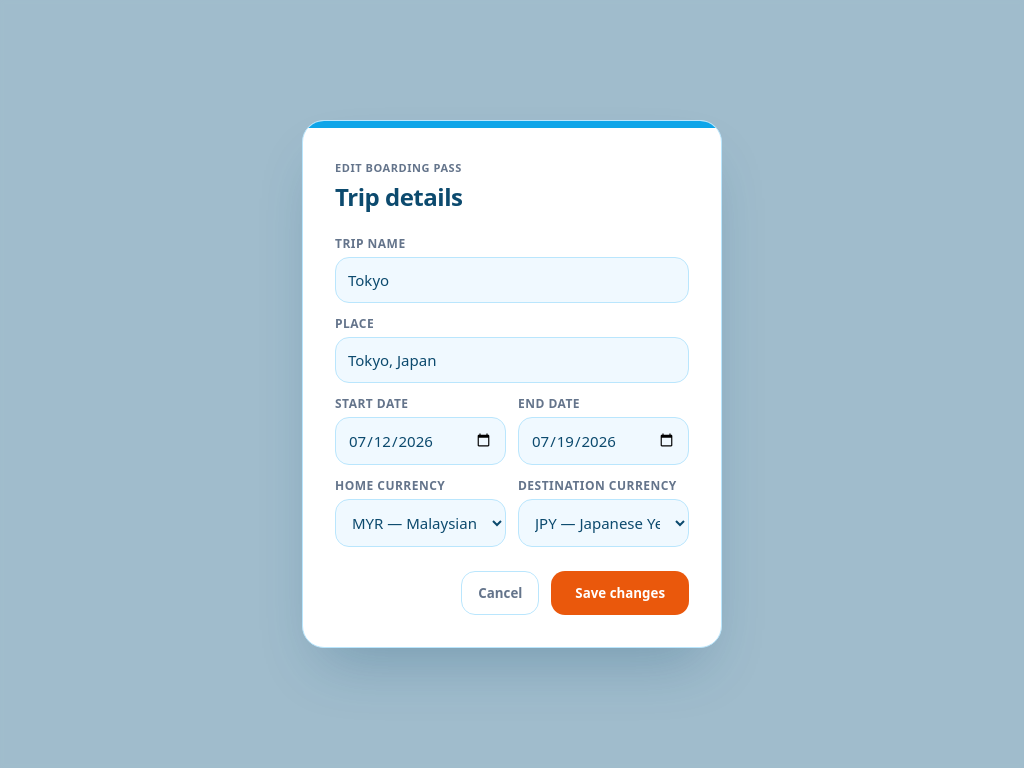
EditTripModal › blocks an empty name
This screenshot has width=1024, height=768.
Clear the field labelled "Trip name" at (512, 280), box 335,256 -> 689,302
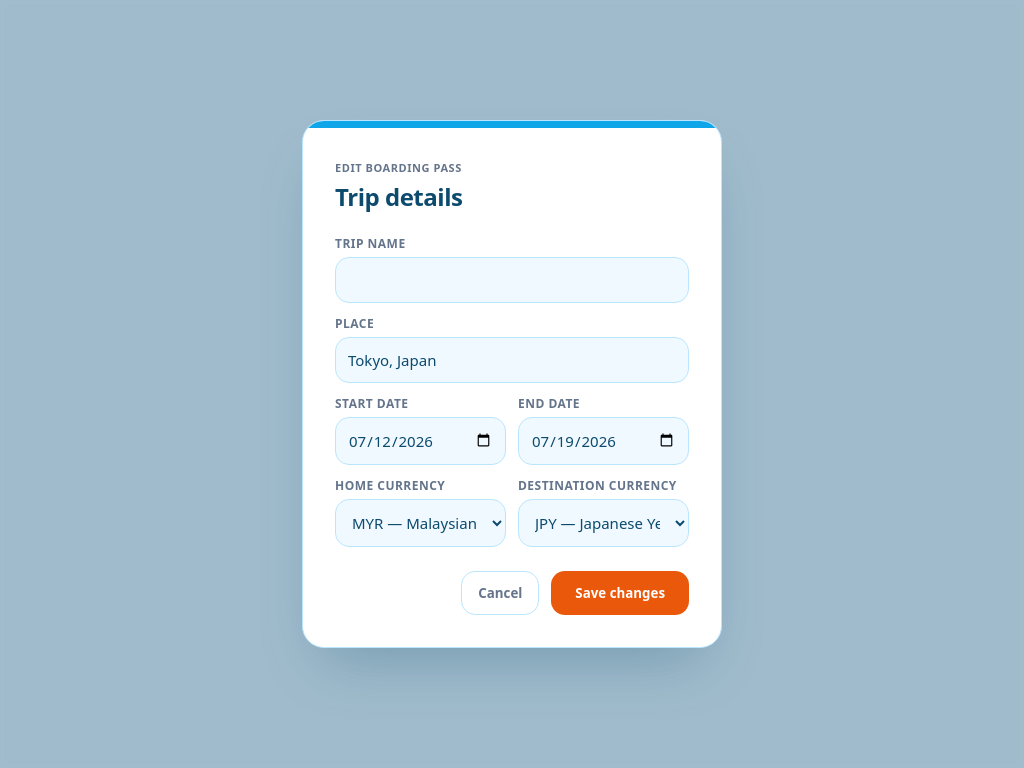
Click the button "Save changes".
click(620, 592)  # box 551,570 -> 689,614
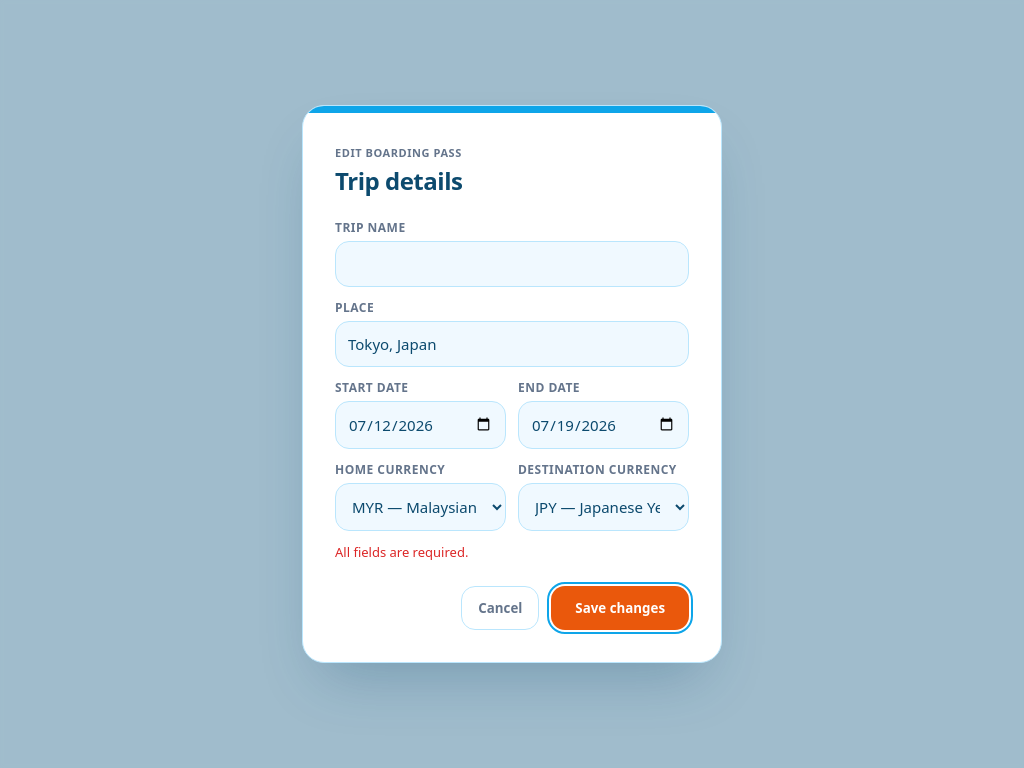
Result: the text "All fields are required." is shown at 335,543 -> 468,561
